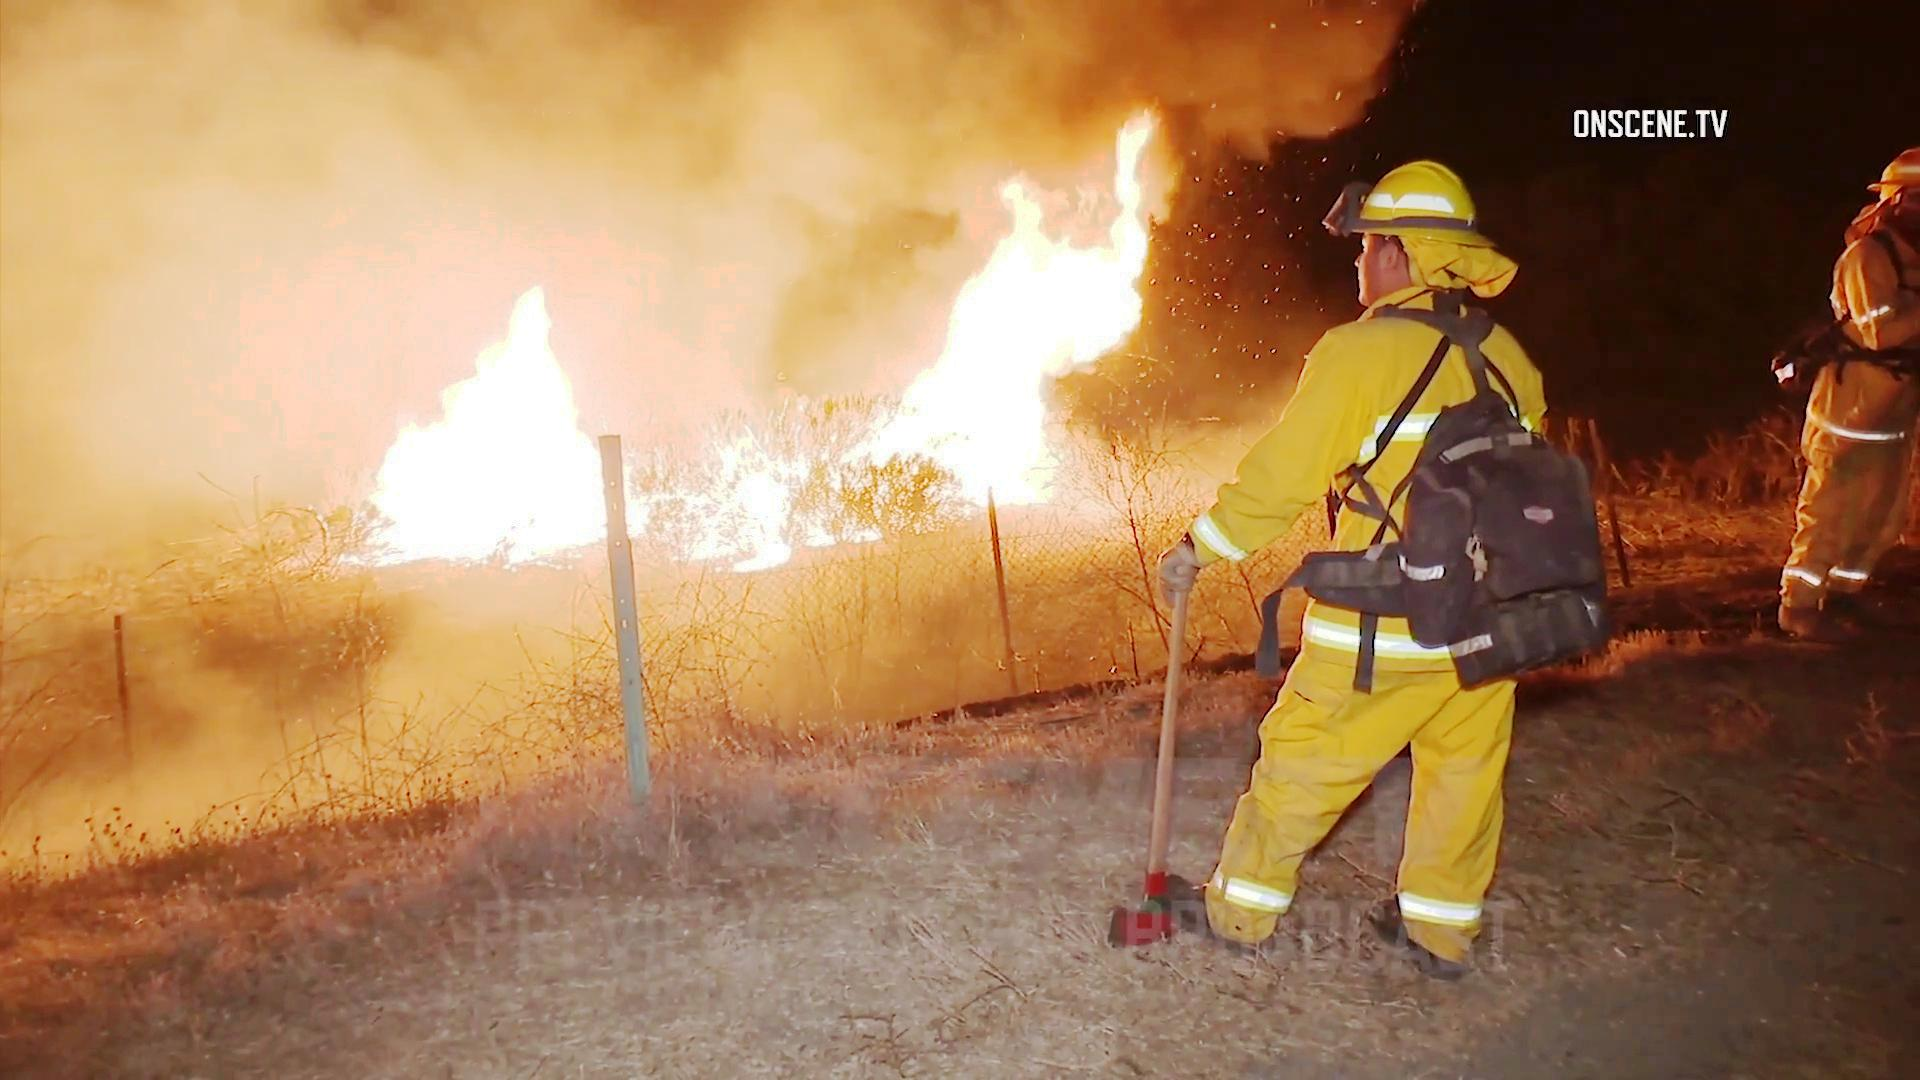fire: (618, 111, 1163, 580), (360, 284, 633, 571)
